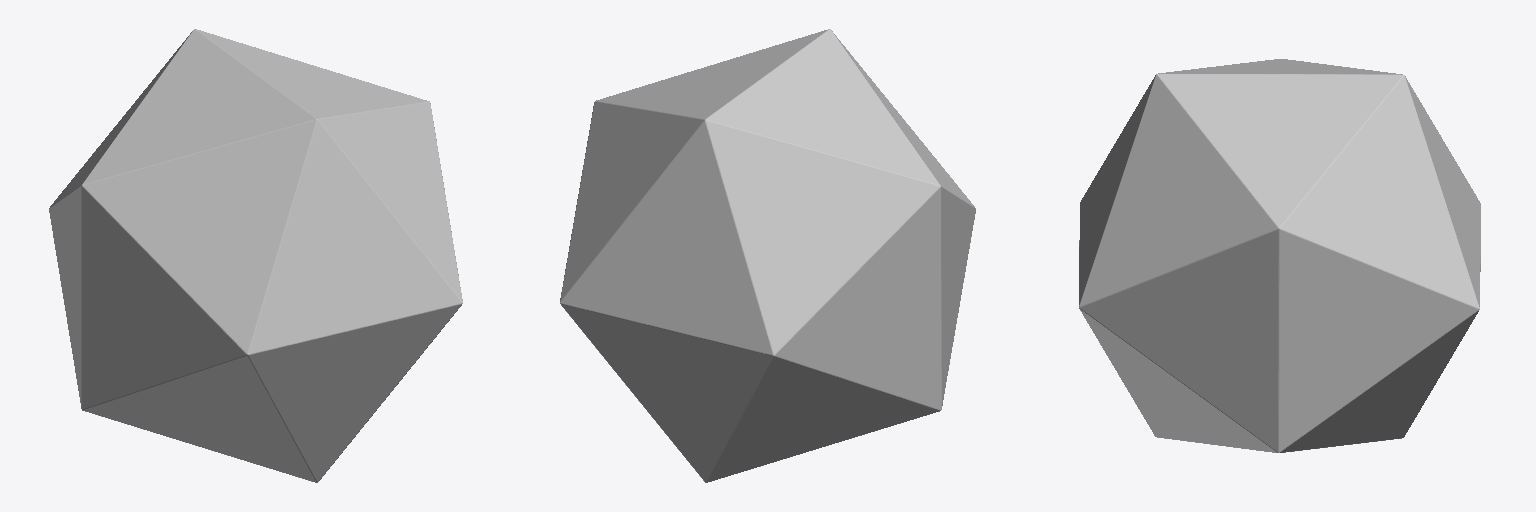
3 renders of one model, left to right at view 1: azimuth 30°, elevation 25°; view 2: azimuth 150°, elevation 25°; view 3: azimuth 270°, elevation 25°, orthographic.
Parts seen in each view (by area): view 1: GeoSphere001; view 2: GeoSphere001; view 3: GeoSphere001.
Part boxes in pixels (x1,y1,x2,y2): GeoSphere001: (49, 29, 462, 482); GeoSphere001: (560, 29, 975, 482); GeoSphere001: (1079, 59, 1480, 452).
Bounding box in the file's own units: 7.72 × 7.72 × 7.74.